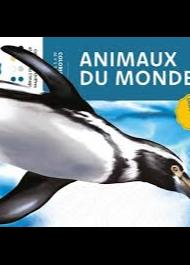Non_Gorille: (0, 38, 190, 227)
